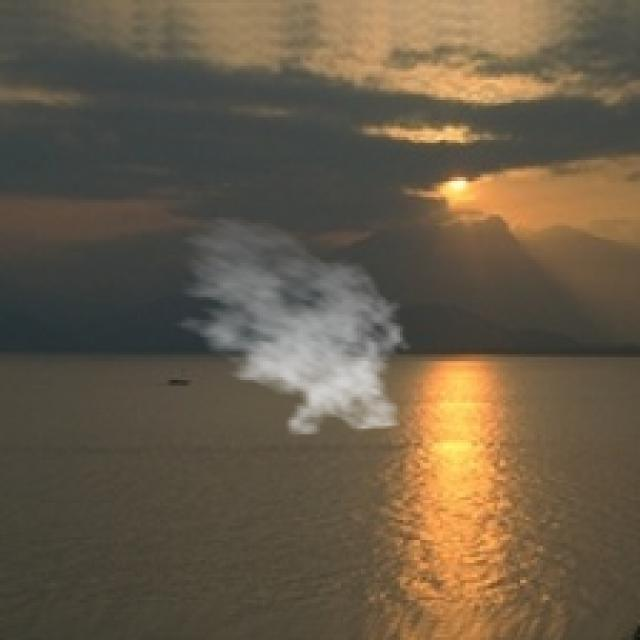Smoke: (163, 214, 414, 437)
